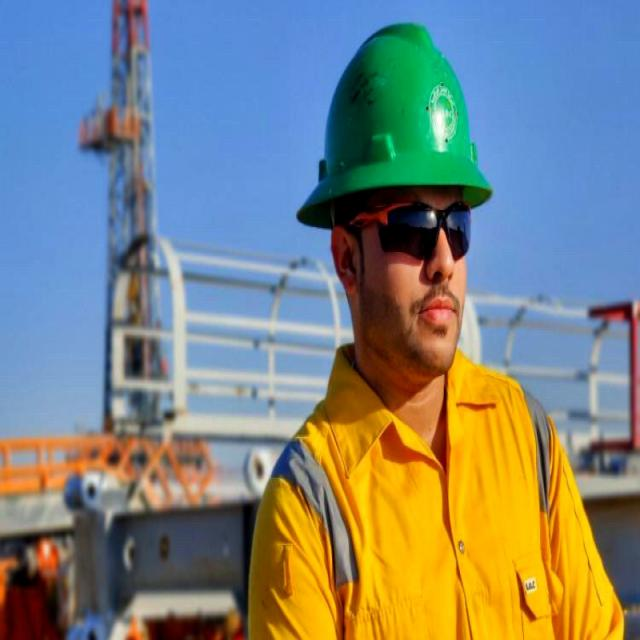goggles: (341, 199, 474, 260)
helmet: (293, 21, 495, 227)
vest: (249, 339, 626, 640)
